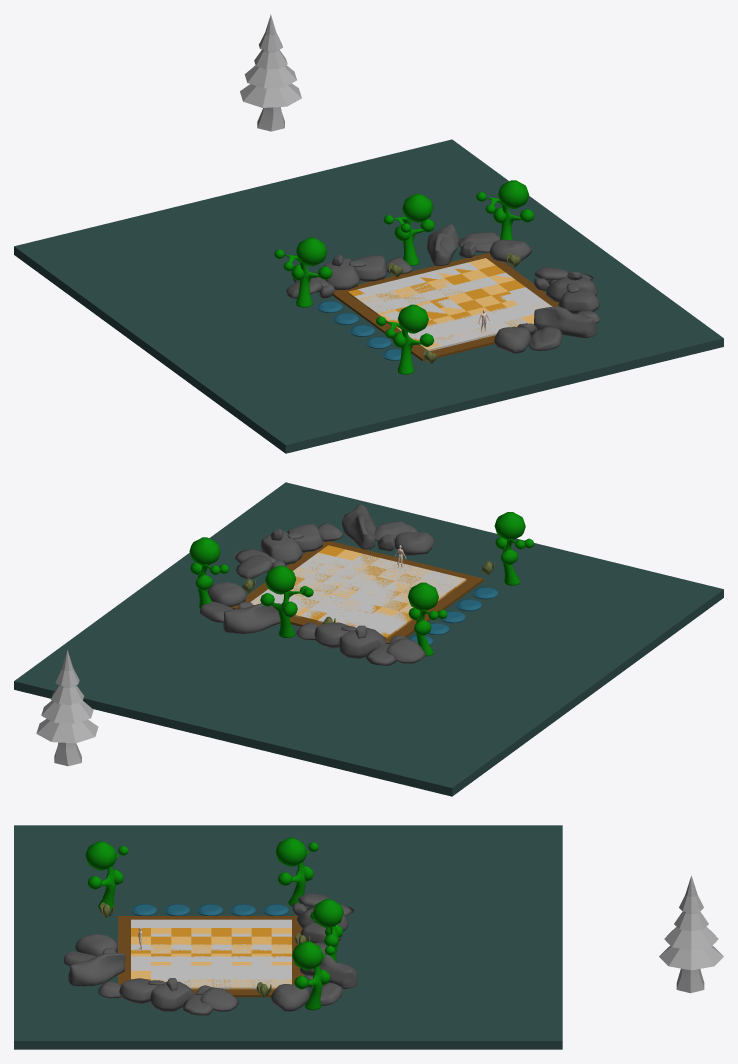
File: EVERYTHING.fbx
The picture shows the model from 3 angles, top to bottom: view 1: azimuth 30°, elevation 25°; view 2: azimuth 150°, elevation 25°; view 3: azimuth 270°, elevation 25°; orthographic projection.
Parts seen in each view (by area): view 1: rocks2; view 2: rocks2; view 3: rocks2.
Part boxes in pixels (x1=…): rocks2: x1=14, y1=14, x2=723, y2=453; rocks2: x1=14, y1=482, x2=723, y2=796; rocks2: x1=14, y1=825, x2=723, y2=1049.
Bounding box in the file's own units: 3809 × 960 × 5297.
